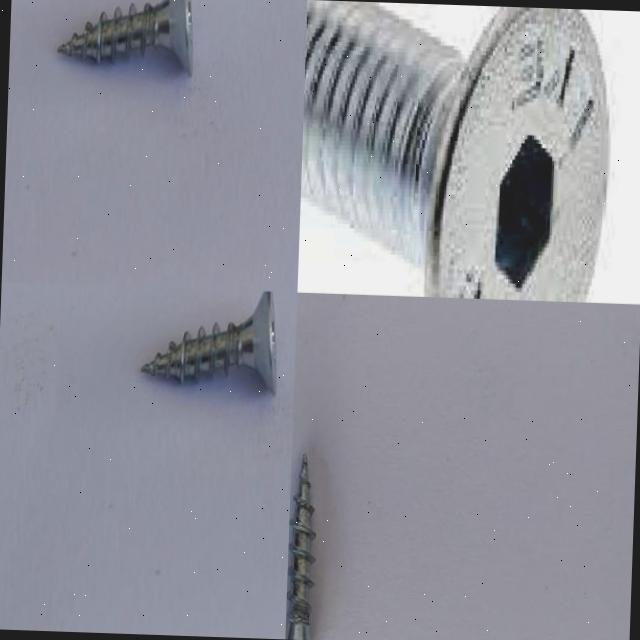Screw: (300, 0, 611, 302), (141, 291, 276, 393), (57, 0, 192, 74), (285, 452, 315, 640)
